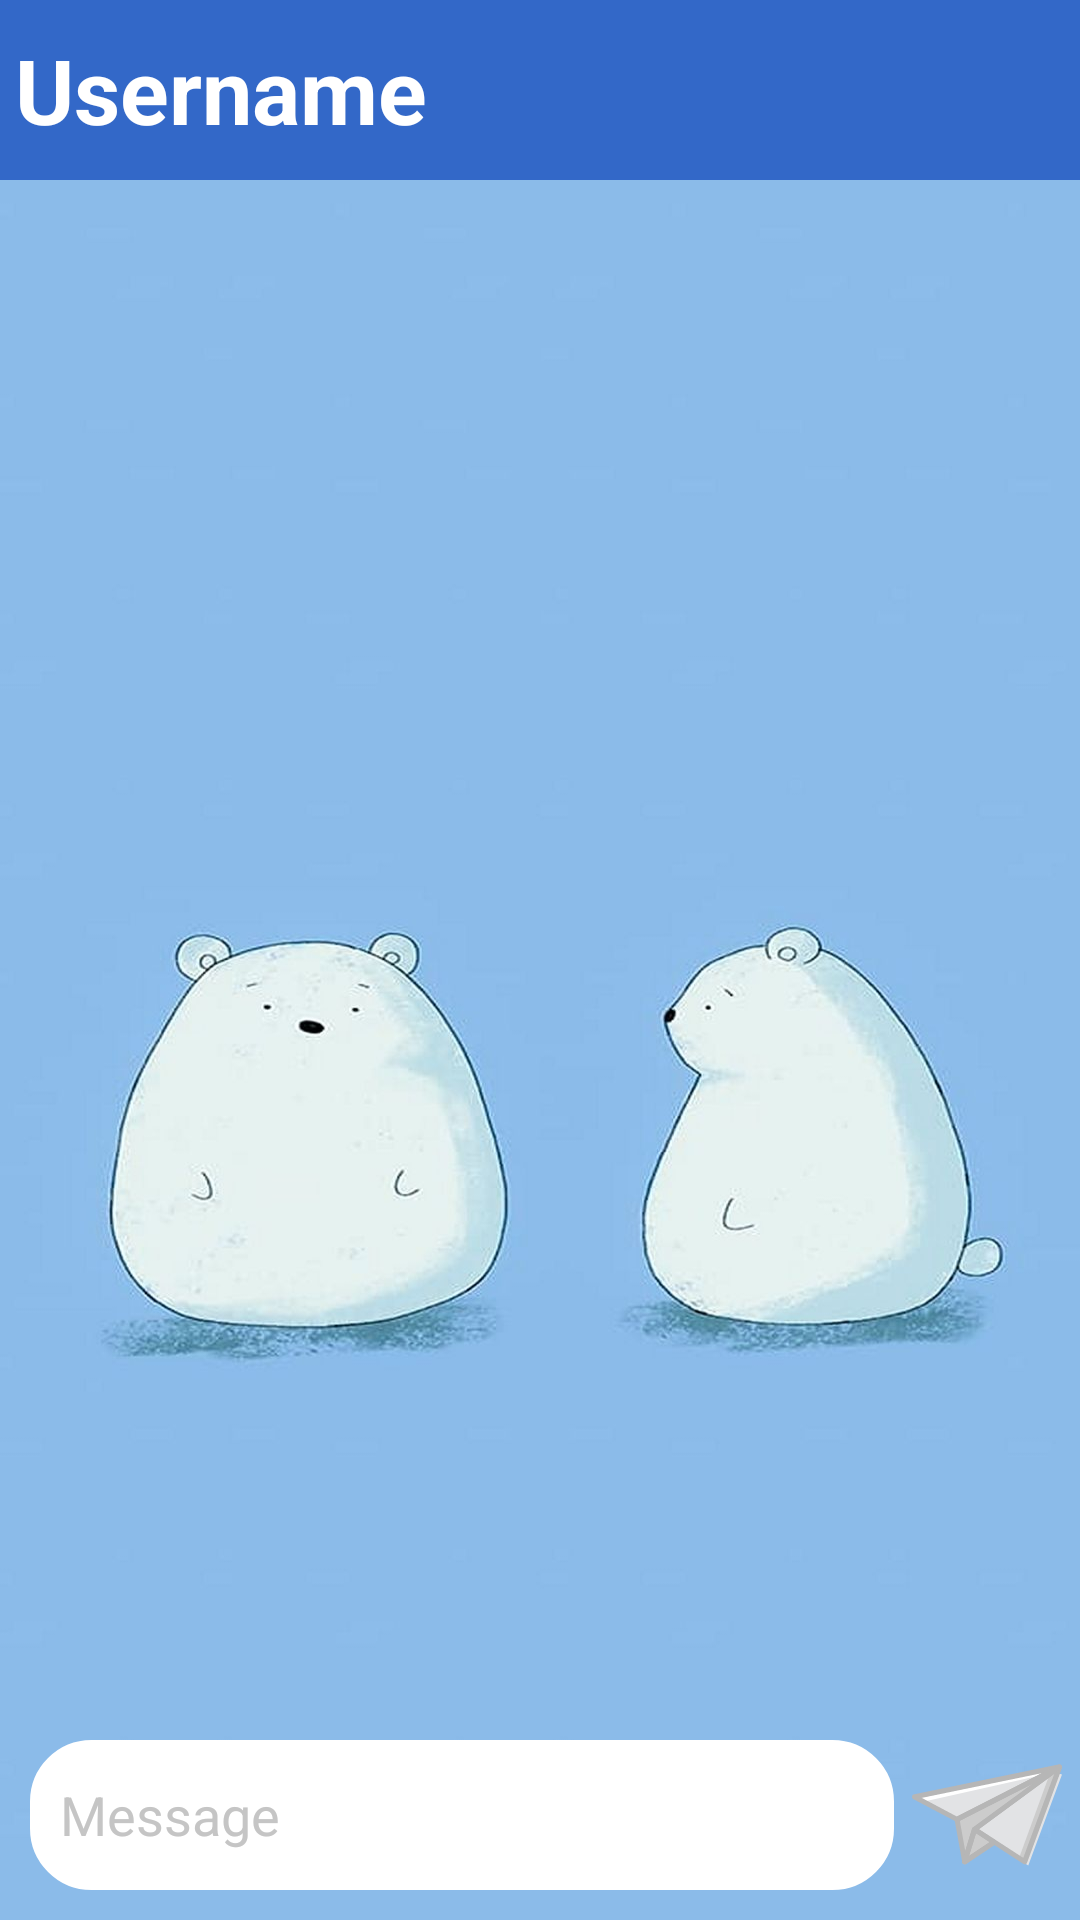

Point at icon controls on the screen. Image size 1080px×1920px, points as point (x, y).
send: point (987, 1814)
